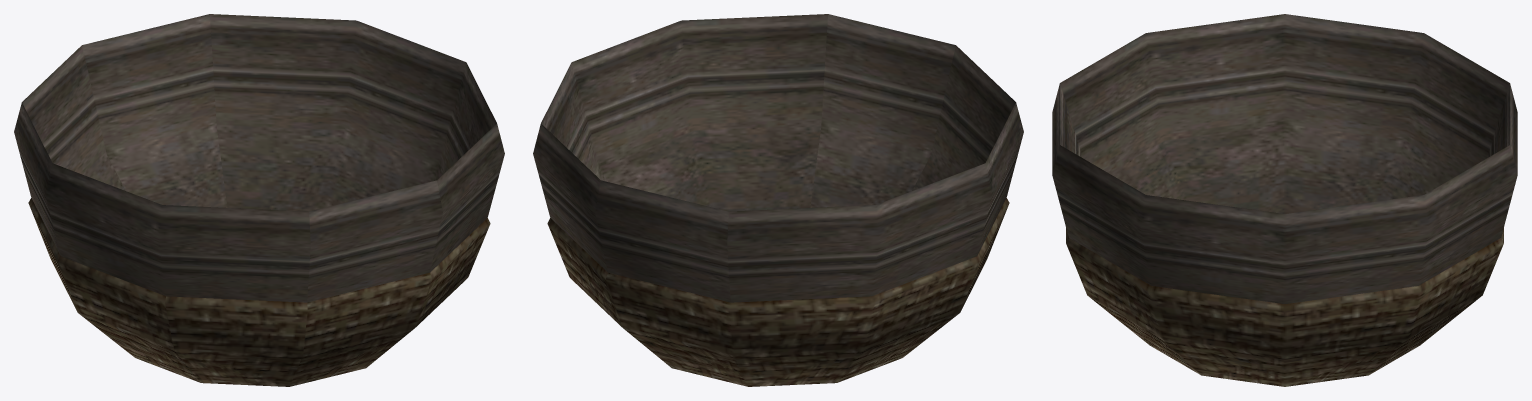
Rendered from edb_con_tato_bowl_empty_s03_l0.fbx.
3 renders of one model, left to right at view 1: azimuth 30°, elevation 25°; view 2: azimuth 150°, elevation 25°; view 3: azimuth 270°, elevation 25°, orthographic.
Visible parts, largest first — view 1: mesh_node; view 2: mesh_node; view 3: mesh_node.
Boxes of the visible parts, left/top/right/bottom form: mesh_node: left=14, top=14, right=504, bottom=386; mesh_node: left=533, top=14, right=1023, bottom=386; mesh_node: left=1052, top=14, right=1517, bottom=386.
Size of the model in its own units: 0.6392 by 0.307 by 0.6079.
